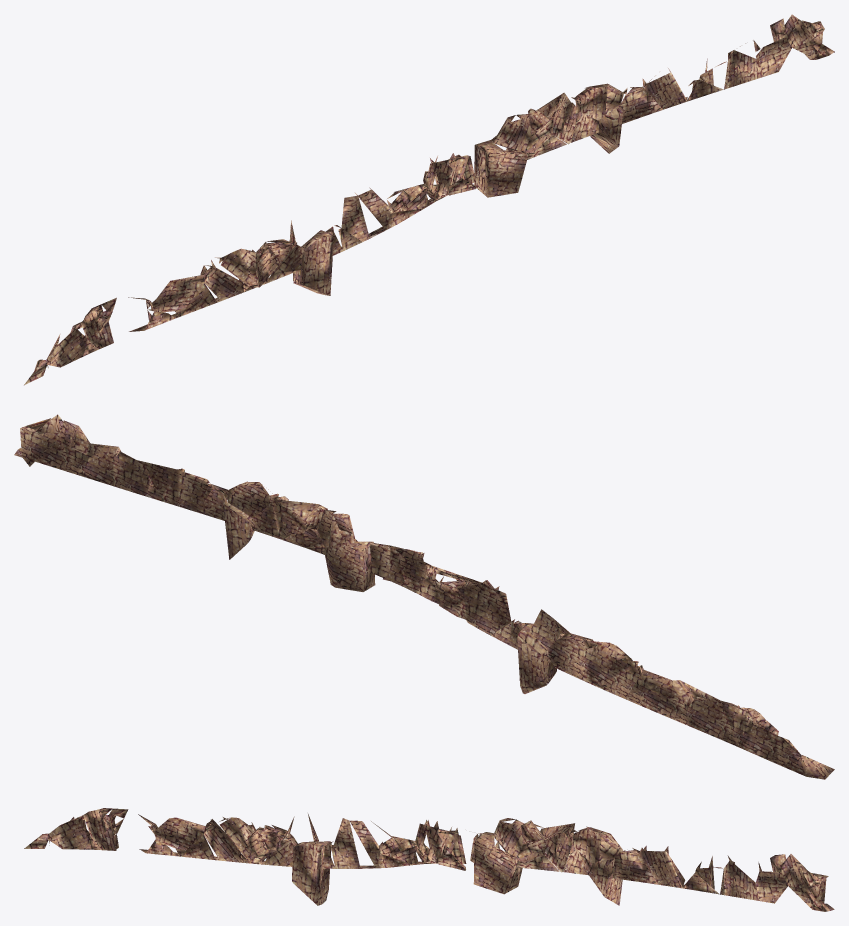
File: monestary_wall_broken_a.glb
3 renders of one model, top to bottom at view 1: azimuth 30°, elevation 25°; view 2: azimuth 150°, elevation 25°; view 3: azimuth 330°, elevation 25°, orthographic.
Parts seen in each view (by area): view 1: brick_wall_06.jpg__; view 2: brick_wall_06.jpg__; view 3: brick_wall_06.jpg__.
Part boxes in pixels (bbox=[...]): brick_wall_06.jpg__: bbox=[24, 14, 834, 385]; brick_wall_06.jpg__: bbox=[14, 414, 834, 779]; brick_wall_06.jpg__: bbox=[24, 808, 834, 911].
Bounding box in the file's own units: 68.53 × 14.47 × 1.85.
Materials: 1 (1 with a texture image).
